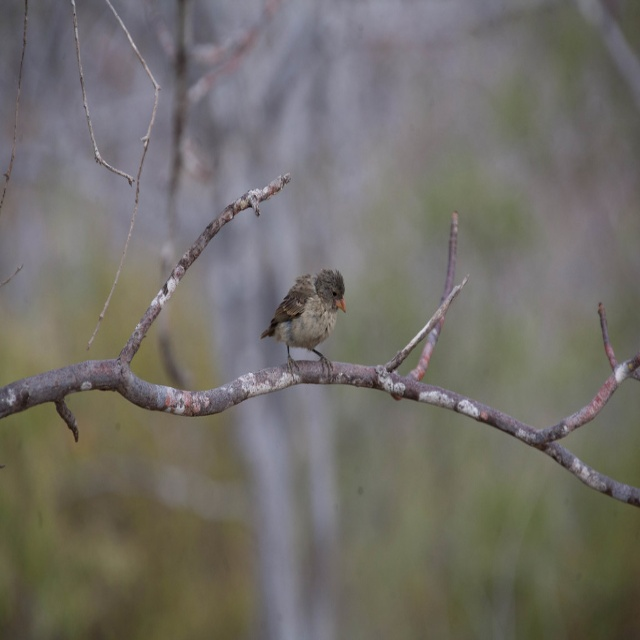Sparrow: (260, 268, 352, 367)
